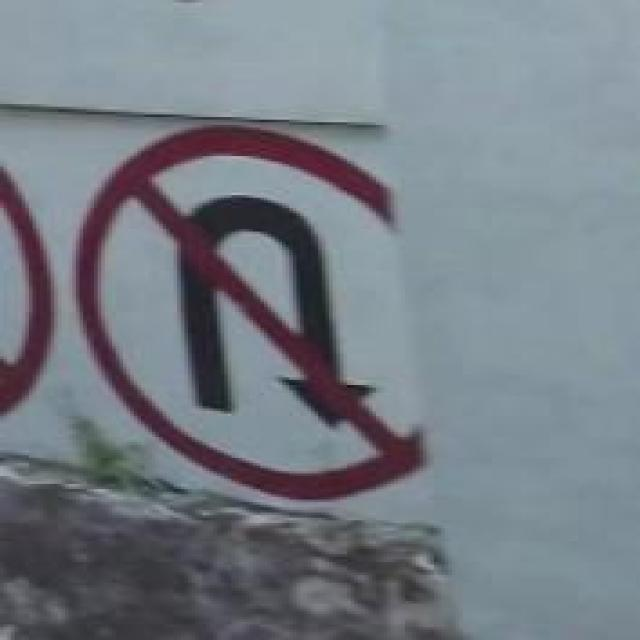traffic sign: (87, 125, 412, 502)
